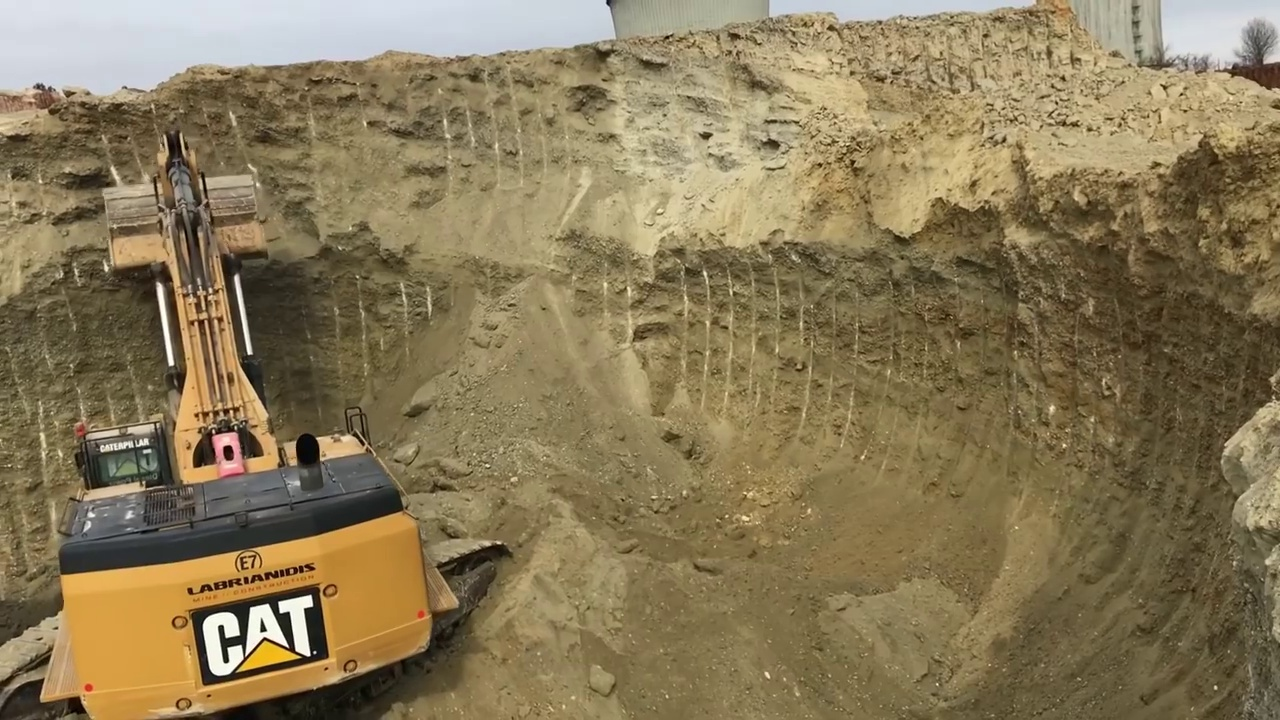excavator: (1, 131, 524, 719)
